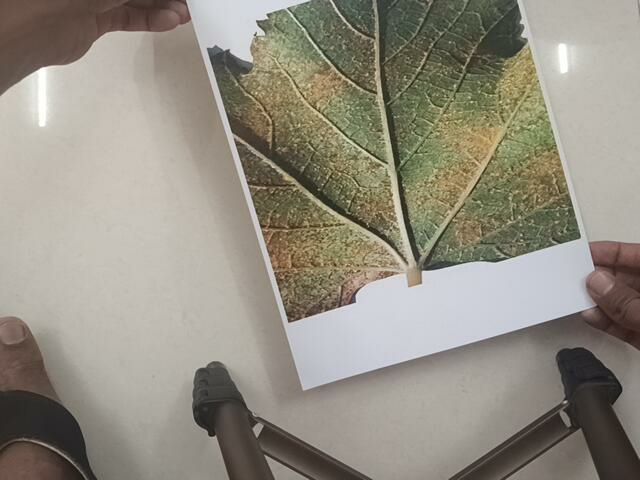Grape_Rust_Fungus: (204, 6, 584, 256)
